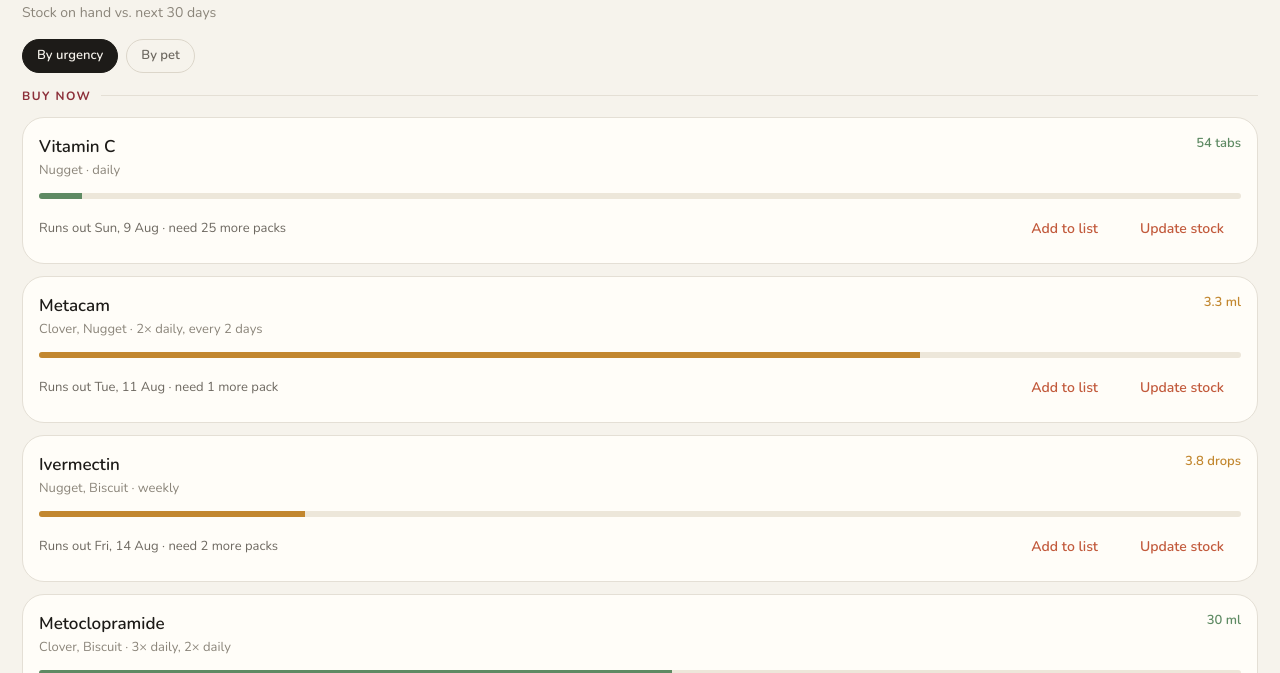
SuppliesPage › 'Add to list' toggles the bottom bar count through a real plural rule
Expected: the text "Buy now" is shown, [22, 87, 91, 105]
Click the button with aria-label "Add Metacam to list": (1065, 388) [1014, 370, 1115, 406]
(page scrolled)
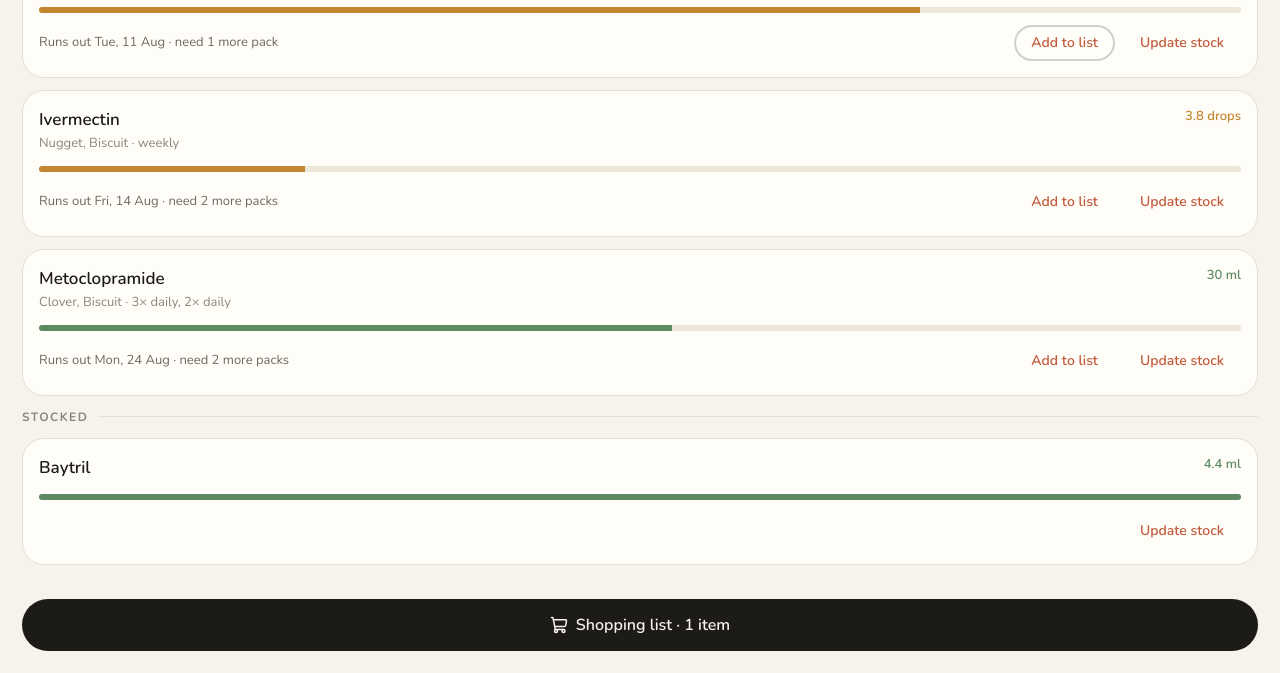
Now the button "Shopping list · 1 item" is shown, box [22, 599, 1258, 651]
